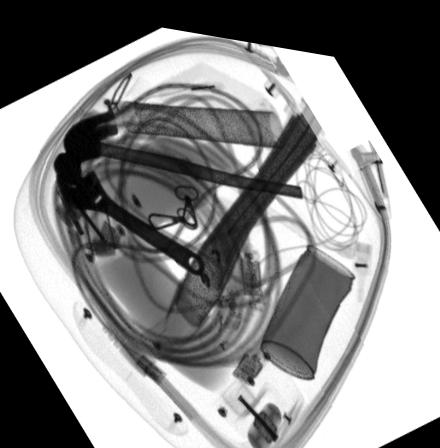Hammer: (52, 105, 304, 187)
Wrench: (55, 166, 206, 266)
